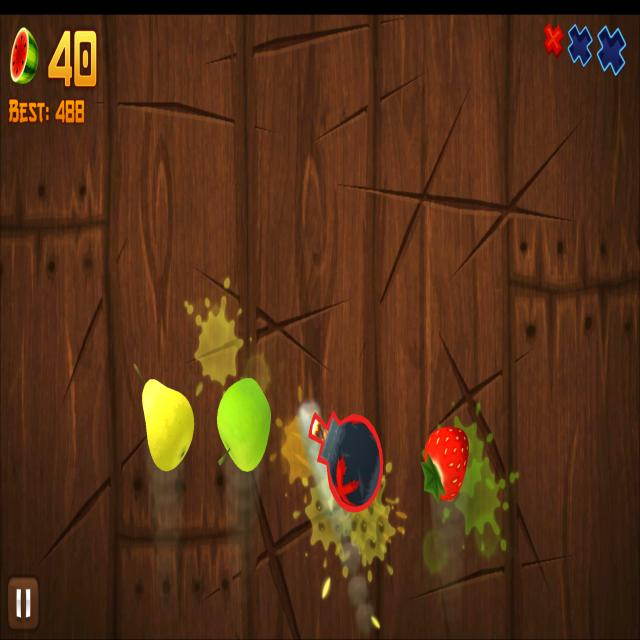bomb: (308, 411, 384, 512)
fruit: (216, 378, 272, 473), (141, 379, 195, 472), (423, 426, 469, 502)
